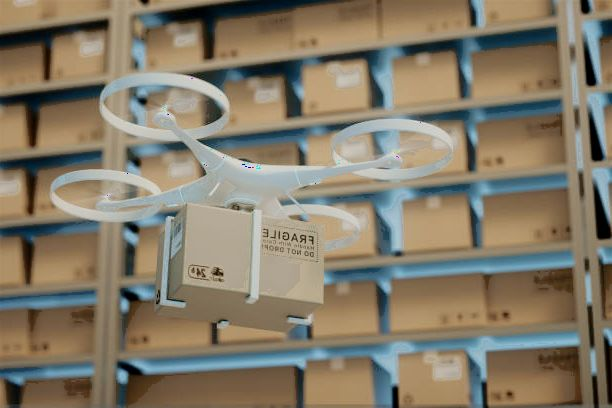Drone: (42, 68, 457, 250)
